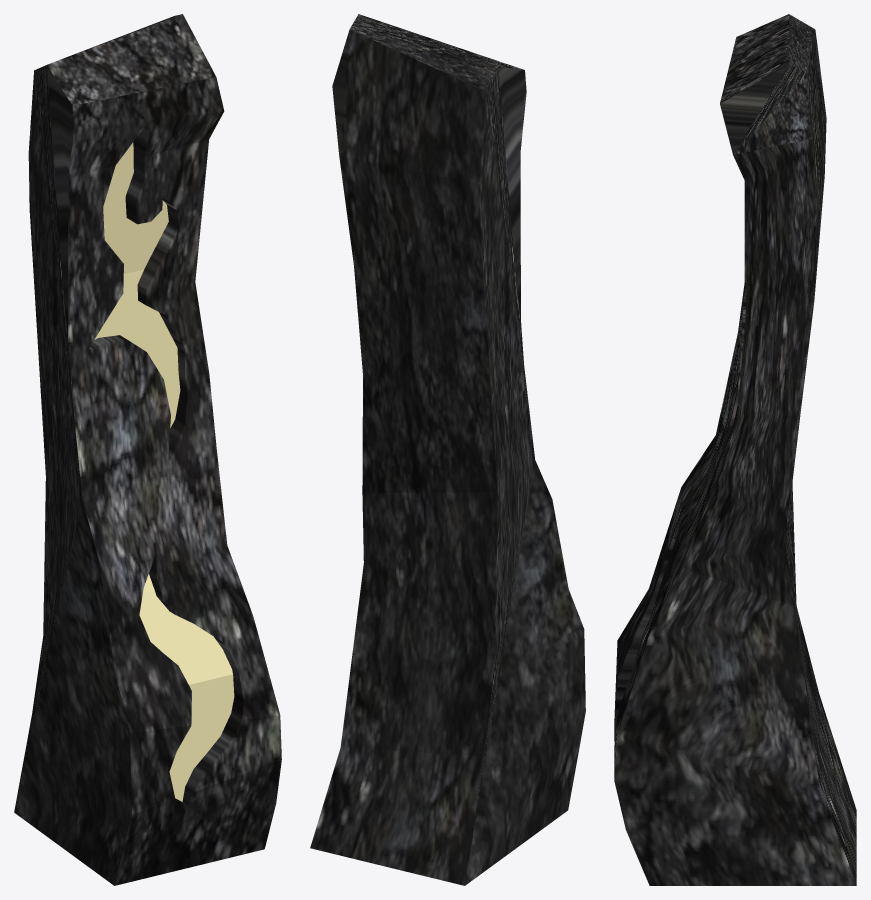
The model's file is Outer_Monolith_01.fbx.
3 views of the same model, side by side, from view 1: azimuth 30°, elevation 25°; view 2: azimuth 150°, elevation 25°; view 3: azimuth 270°, elevation 25° (orthographic). The views are drawn at different scales.
Parts seen in each view (by area): view 1: Monolith_01; view 2: Monolith_01; view 3: Monolith_01.
Part boxes in pixels (x1,y1,x2,y2): Monolith_01: (14, 14, 281, 885); Monolith_01: (310, 14, 585, 885); Monolith_01: (614, 14, 856, 885).
Bounding box in the file's own units: 0.5976 × 3 × 0.8092.
